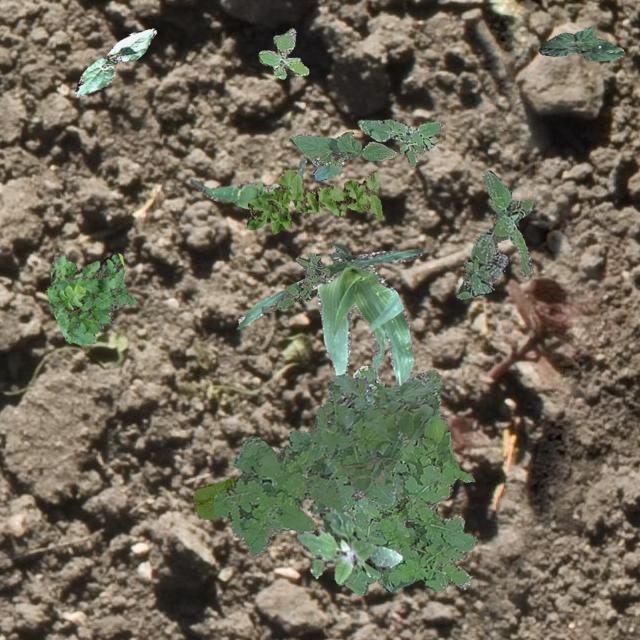crop: (236, 242, 422, 386), (188, 156, 306, 208), (74, 28, 154, 96), (288, 130, 396, 180), (538, 26, 624, 60), (191, 478, 235, 518)
weed: (212, 368, 440, 558), (344, 364, 476, 594), (456, 170, 536, 298), (296, 498, 402, 584), (246, 168, 380, 232), (44, 252, 134, 344), (357, 118, 442, 168), (260, 252, 328, 312), (258, 27, 308, 78)
